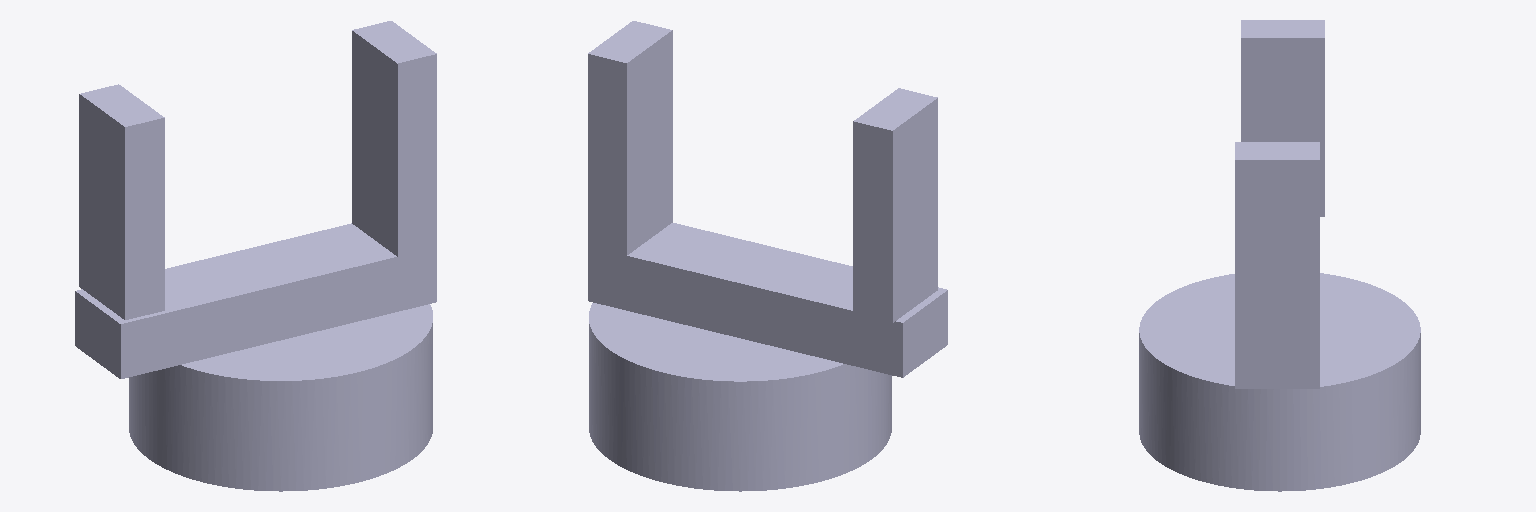
The robot description file, URDF, robot "my_robot_arm":
<?xml version="1.0" ?>
<robot name="my_robot_arm">
  <!--Generated by CROSS, a ROS Workbench for FreeCAD (https://github.com/galou/freecad.cross)-->
  <link name="base_link">
    <visual>
      <!--base_link_part/Body.-->
      <origin rpy="0.0 -0.0 0.0" xyz="0.0 0.0 0.0"/>
      <geometry>
        <mesh filename="package://my_robot_arm/meshes/my_robot_arm_end_effector_base_link_body.dae"/>
      </geometry>
    </visual>
    <collision>
      <!--base_link_part/Body.-->
      <origin rpy="0.0 -0.0 0.0" xyz="0.0 0.0 0.0"/>
      <geometry>
        <mesh filename="package://my_robot_arm/meshes/my_robot_arm_end_effector_base_link_body.dae"/>
      </geometry>
    </collision>
    <inertial>
      <mass value="0.0"/>
      <origin rpy="0.0 -0.0 0.0" xyz="0.0 0.0 0.0"/>
      <inertia ixx="0.0" ixy="0.0" ixz="0.0" iyy="0.0" iyz="0.0" izz="0.0"/>
    </inertial>
  </link>
  <link name="finger_link">
    <visual>
      <!--finger_part/Body001.-->
      <origin rpy="0.0 -0.0 0.0" xyz="0.0 0.0 0.0"/>
      <geometry>
        <mesh filename="package://my_robot_arm/meshes/my_robot_arm_end_effector_finger_body.dae"/>
      </geometry>
    </visual>
    <collision>
      <!--finger_part/Body001.-->
      <origin rpy="0.0 -0.0 0.0" xyz="0.0 0.0 0.0"/>
      <geometry>
        <mesh filename="package://my_robot_arm/meshes/my_robot_arm_end_effector_finger_body.dae"/>
      </geometry>
    </collision>
    <inertial>
      <mass value="0.0"/>
      <origin rpy="0.0 -0.0 0.0" xyz="0.0 0.0 0.0"/>
      <inertia ixx="0.0" ixy="0.0" ixz="0.0" iyy="0.0" iyz="0.0" izz="0.0"/>
    </inertial>
  </link>
  <joint name="finger_joint" type="prismatic">
    <parent link="base_link"/>
    <child link="finger_link"/>
    <origin rpy="0.0 -0.0 0.0" xyz="-0.06 0.001 0.06"/>
    <axis xyz="1 0 0"/>
    <limit effort="1000.0" lower="-0.01" upper="0.078" velocity="1000.1"/>
  </joint>
</robot>

--- Render facts (derived) ---
The picture shows the robot from 3 angles, left to right: view 1: azimuth 30°, elevation 25°; view 2: azimuth 150°, elevation 25°; view 3: azimuth 270°, elevation 25°; orthographic projection.
Model my_robot_arm with 2 links and 1 joints (1 prismatic), rooted at base_link, posed every joint at zero.
Links seen in each view (by area): view 1: base_link, finger_link; view 2: base_link, finger_link; view 3: base_link, finger_link.
Link boxes in pixels (x1,y1,x2,y2): base_link: (75, 21, 436, 491); finger_link: (79, 84, 164, 319); base_link: (588, 21, 947, 491); finger_link: (853, 88, 937, 322); base_link: (1139, 142, 1420, 491); finger_link: (1241, 20, 1324, 216).
Bounding box of the posed robot: 0.12 × 0.1 × 0.13 m (x, y, z).
2 mesh visuals loaded from 2 distinct referenced files (2 Collada DAE).
